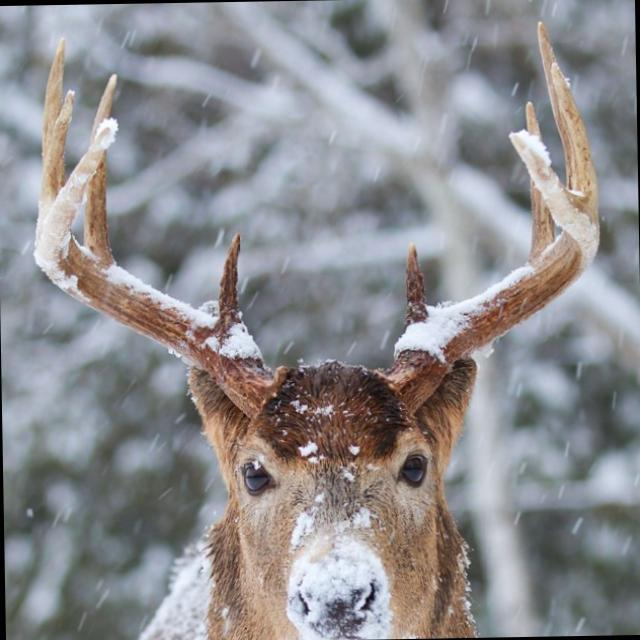L-F: (371, 130, 601, 417)
L-G1: (403, 243, 429, 332)
R-F: (33, 123, 298, 418)
R-G1: (216, 231, 246, 330)
